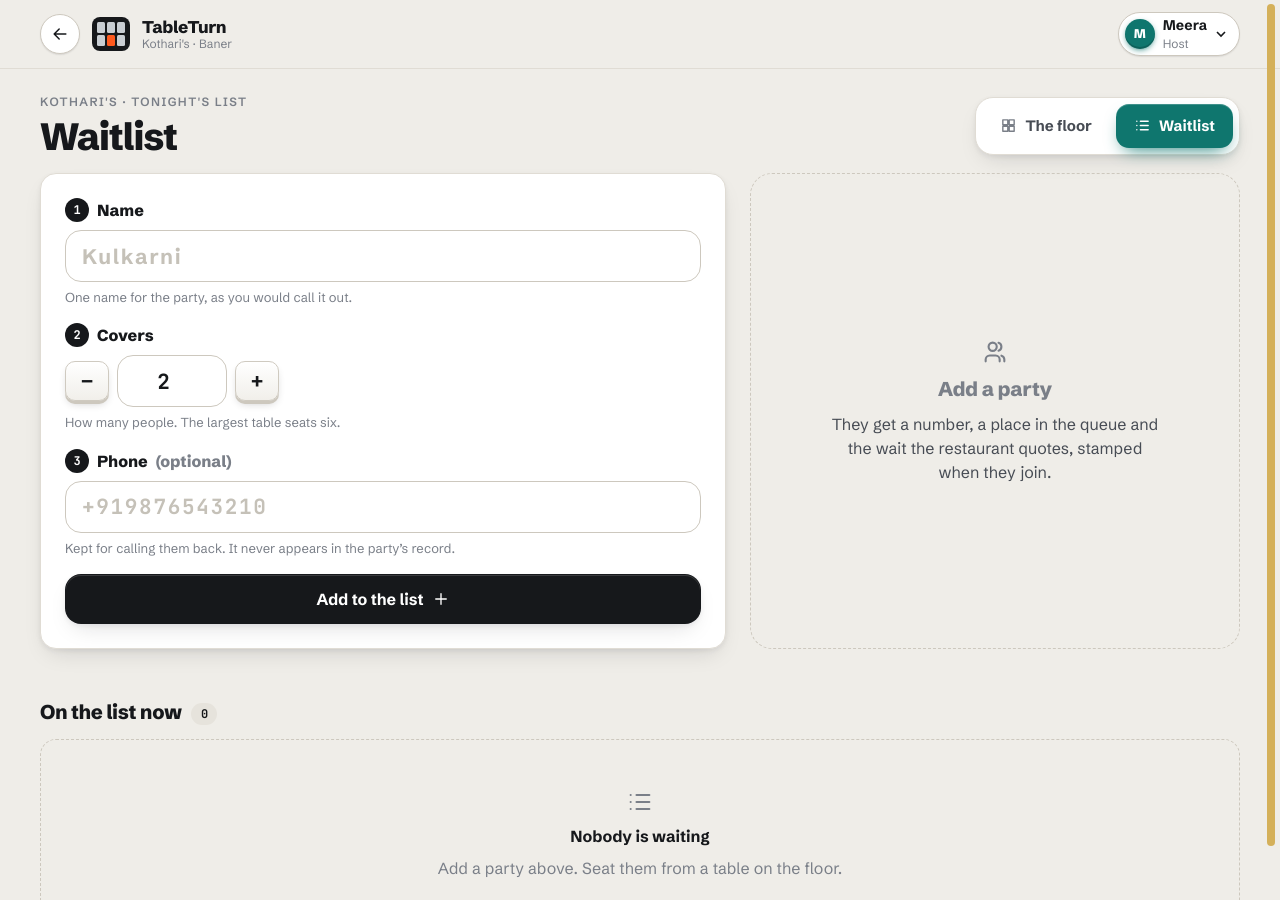
Test case: F-05 · A party joins the list › with Name empty and Covers 0, both errors show at once, under their boxes and in the panel
The image size is (1280, 900).
Replace the text in the number field labelled "2 Covers" with "0" at (172, 381), box top-left (118, 356), bottom-right (226, 406)
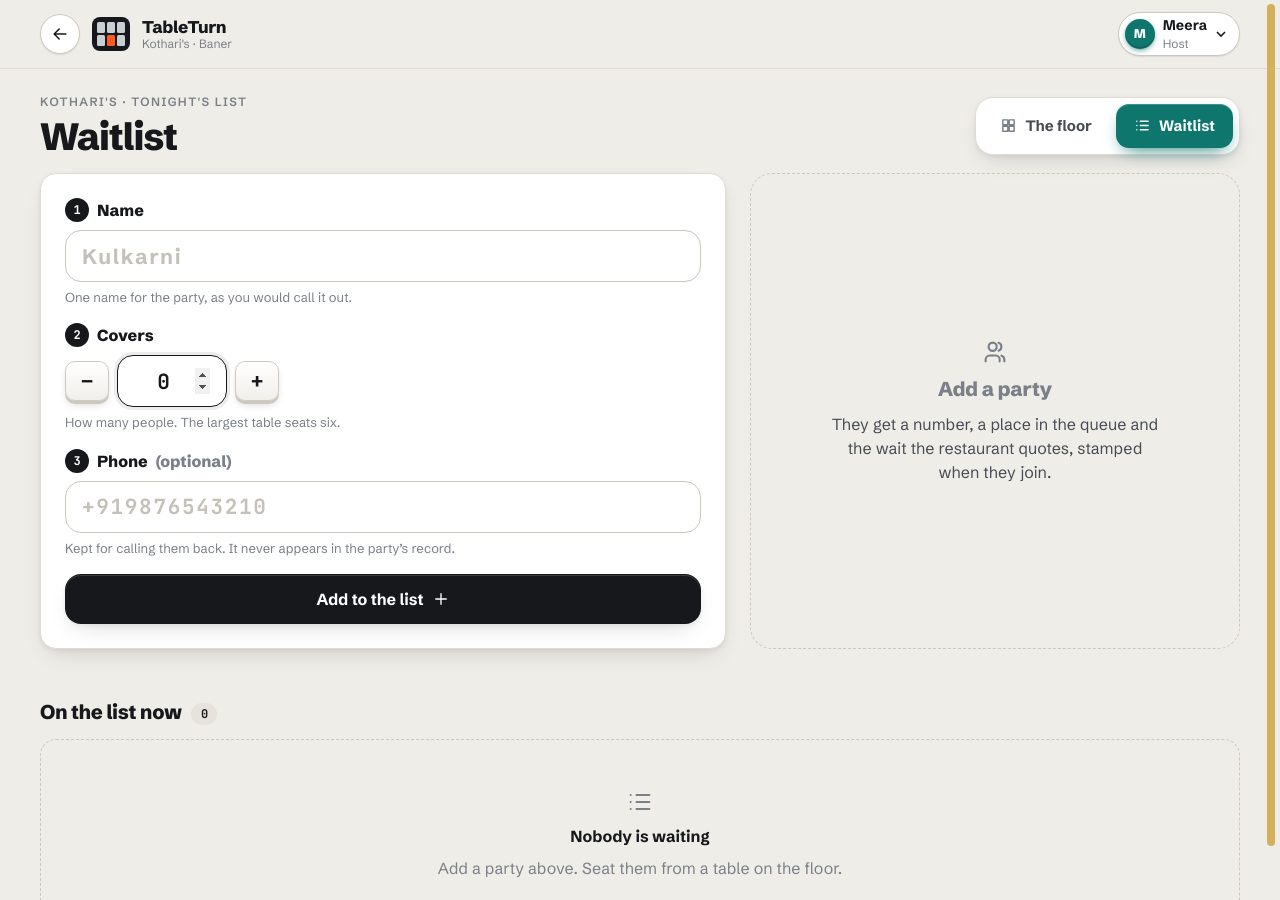
Click the button "Add to the list" at (383, 599), box top-left (65, 574), bottom-right (701, 624)
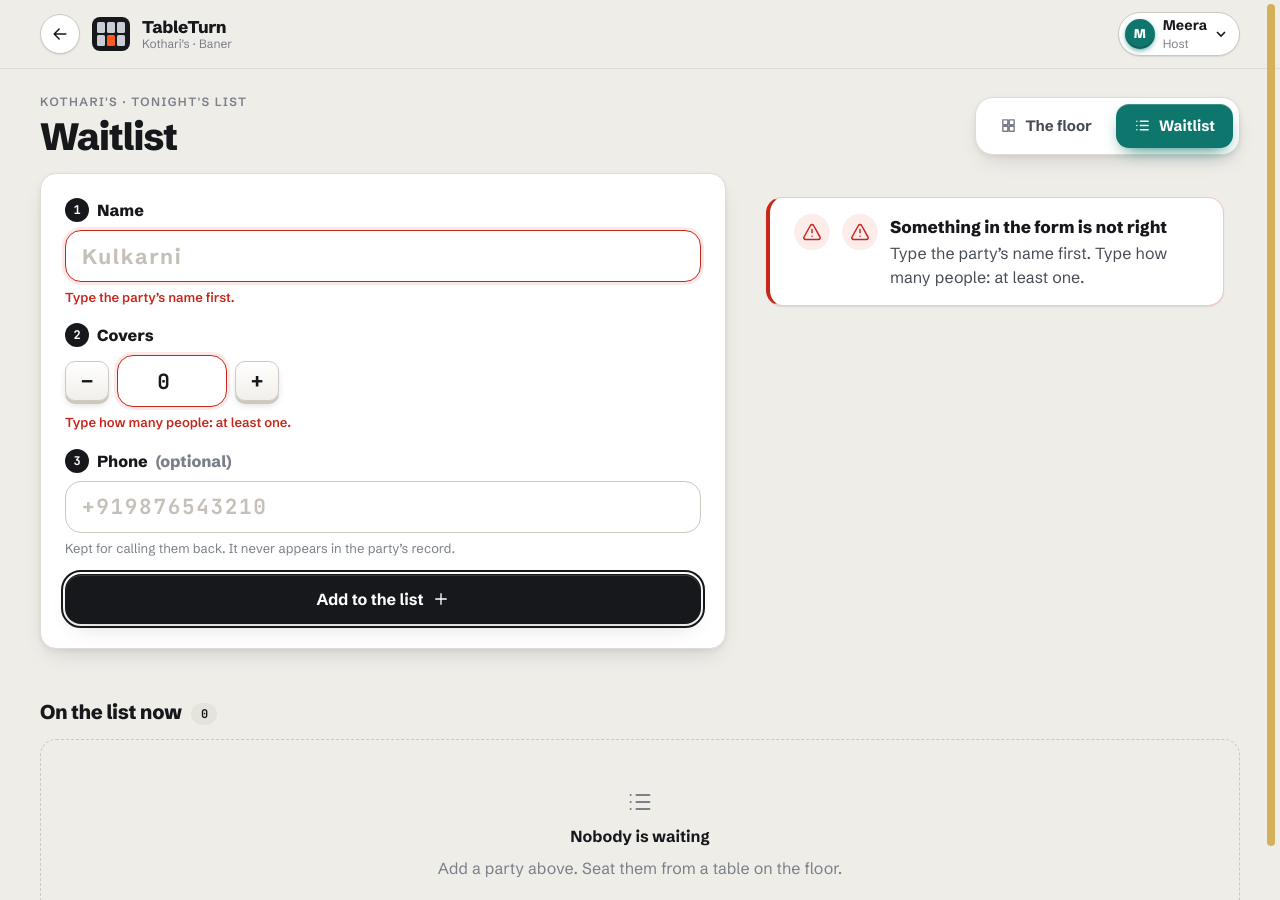
Expected: the text "Type the party’s name first." is shown 2 times, top-left (65, 289), bottom-right (234, 305); top-left (890, 241), bottom-right (1199, 289)
Expected: the text "Type how many people: at least one." is shown 2 times, top-left (65, 414), bottom-right (291, 430); top-left (890, 241), bottom-right (1199, 289)
Expected: the text "Type how many people: at least one." is shown, top-left (890, 243), bottom-right (1167, 287)
